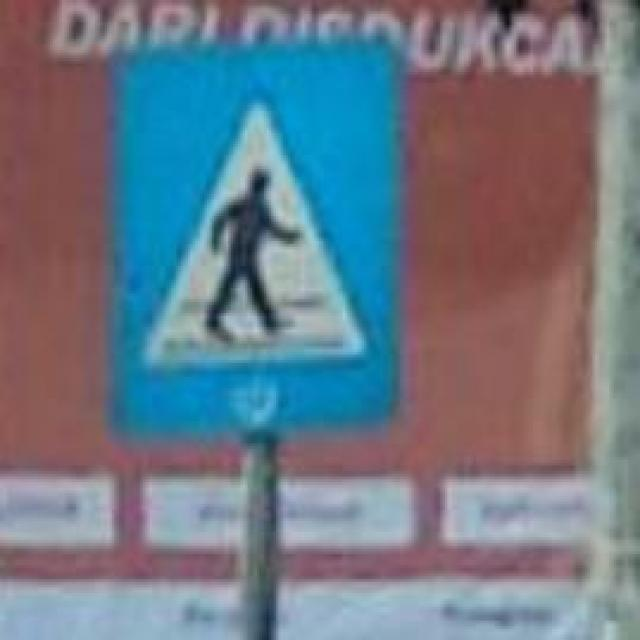traffic sign: (105, 36, 405, 432)
